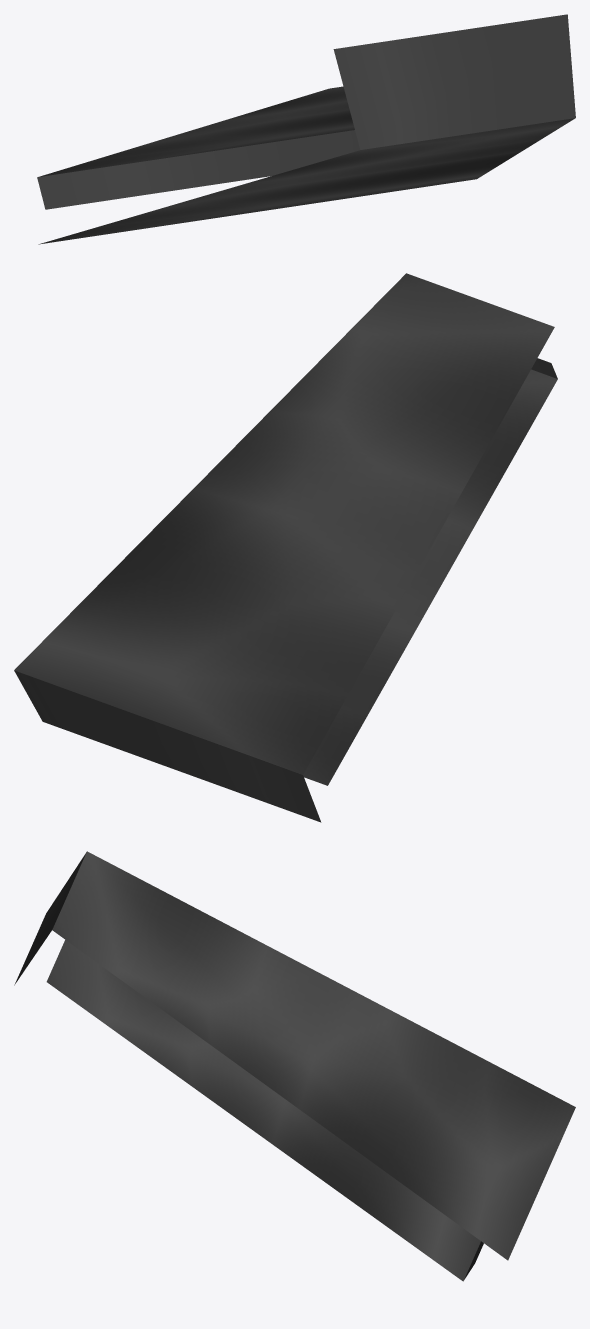
Rendered from DHD_Key_Outer.glb.
3 views of the same model, one above another, from view 1: azimuth 30°, elevation 25°; view 2: azimuth 150°, elevation 25°; view 3: azimuth 270°, elevation 25° (orthographic). The views are drawn at different scales.
Parts seen in each view (by area): view 1: Keys_Outer; view 2: Keys_Outer; view 3: Keys_Outer.
Part boxes in pixels (x1,y1,x2,y2): Keys_Outer: (37, 14, 575, 244); Keys_Outer: (14, 273, 557, 822); Keys_Outer: (14, 851, 575, 1281).
Bounding box in the file's own units: 0.2845 × 0.2725 × 0.4401.
1 material, 1 textured.
